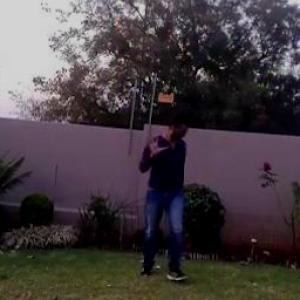follow_hand: (142, 128, 170, 159)
